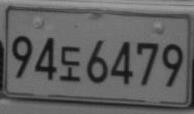4: (33, 36, 57, 80), (110, 41, 133, 85)
6: (86, 39, 109, 83)
7: (136, 41, 159, 85)
9: (161, 43, 184, 88), (11, 34, 33, 79)
도: (60, 45, 80, 82)
